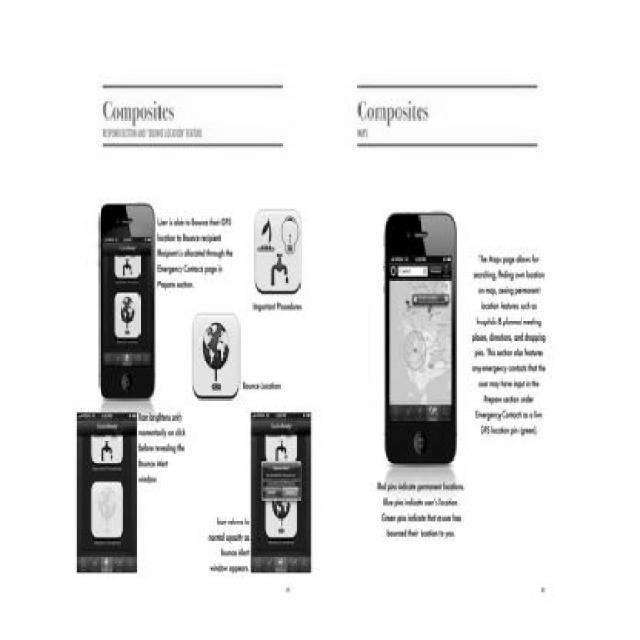fake: (384, 212, 462, 460), (98, 202, 154, 400)
